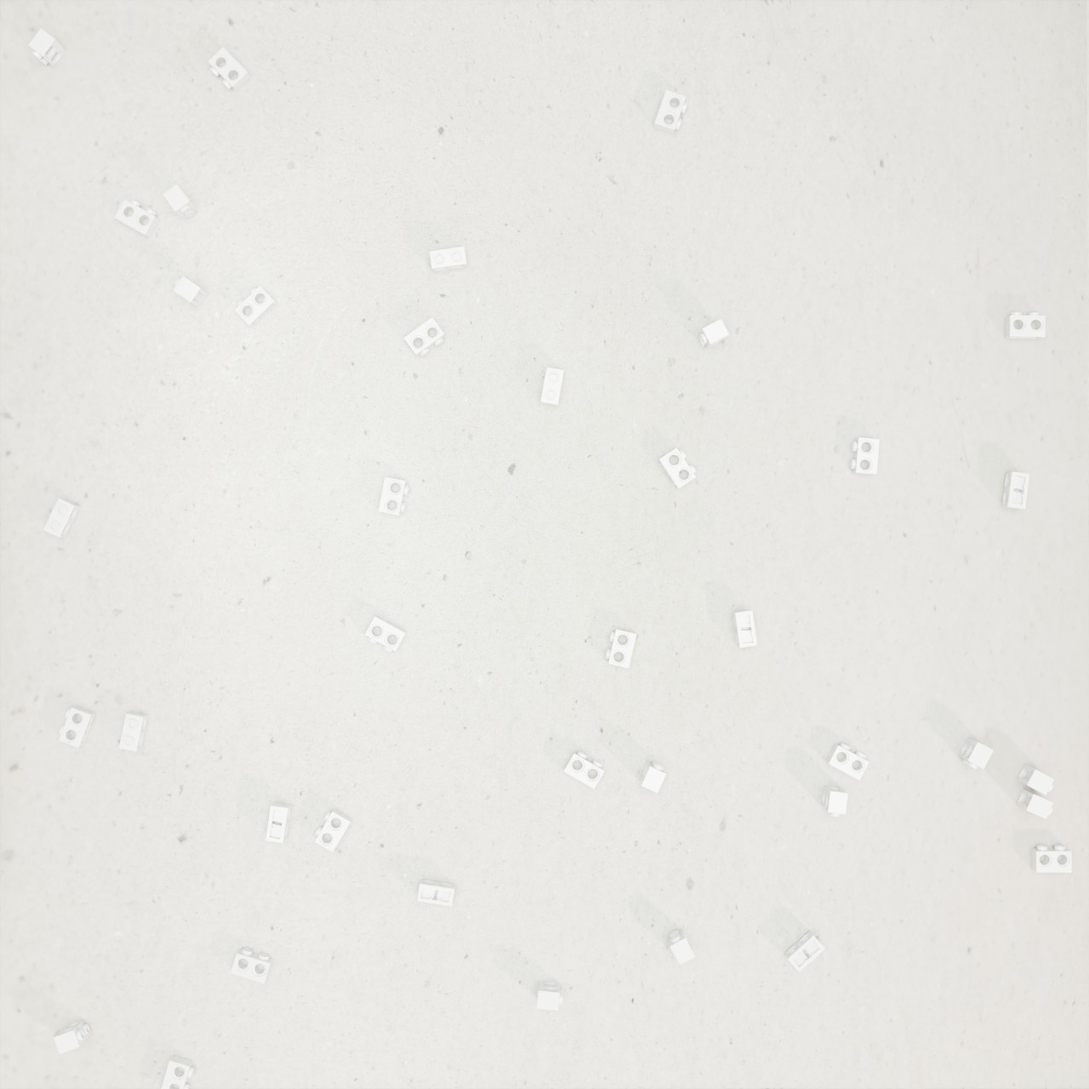lego: (208, 47, 251, 92), (234, 286, 278, 328), (784, 930, 826, 973), (114, 199, 160, 238), (314, 808, 353, 853), (825, 743, 870, 781), (404, 317, 446, 357), (658, 448, 697, 489), (365, 615, 407, 653), (563, 751, 605, 789), (653, 90, 688, 135), (59, 706, 96, 748), (230, 948, 273, 984), (43, 498, 81, 538), (28, 28, 66, 67), (53, 1019, 90, 1054), (605, 628, 637, 668), (119, 711, 149, 752), (162, 184, 197, 219), (378, 477, 409, 516), (160, 1055, 195, 1089), (958, 737, 994, 770), (1016, 764, 1054, 795), (1031, 845, 1072, 873), (1016, 788, 1053, 819), (850, 437, 880, 475), (173, 276, 208, 308), (1005, 312, 1046, 339), (265, 802, 292, 843), (417, 879, 456, 907), (667, 929, 696, 965), (1002, 472, 1030, 509), (429, 246, 468, 272), (732, 609, 757, 648), (540, 367, 564, 407), (698, 319, 729, 349), (639, 761, 666, 793), (821, 786, 848, 817), (537, 981, 563, 1011)
